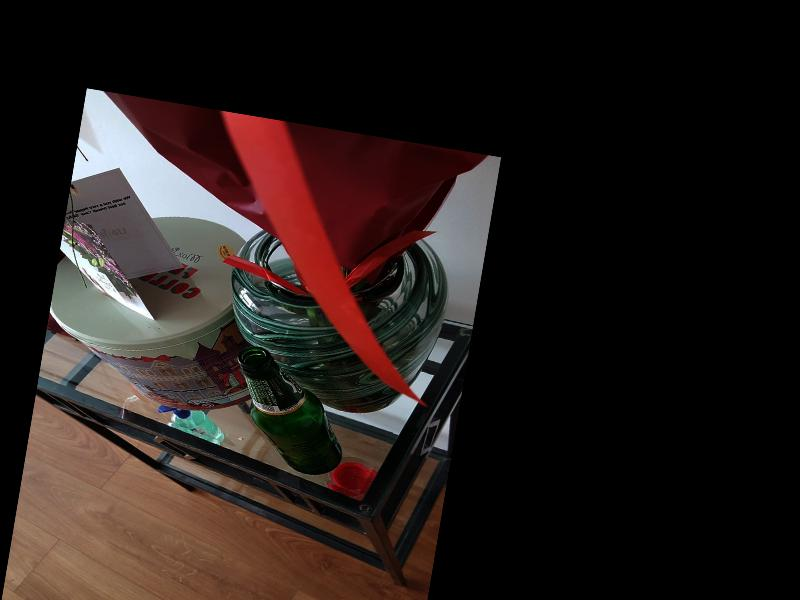Beer: (221, 344, 358, 479)
